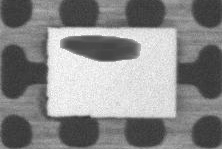DIE_INK: (83, 21, 219, 44)
